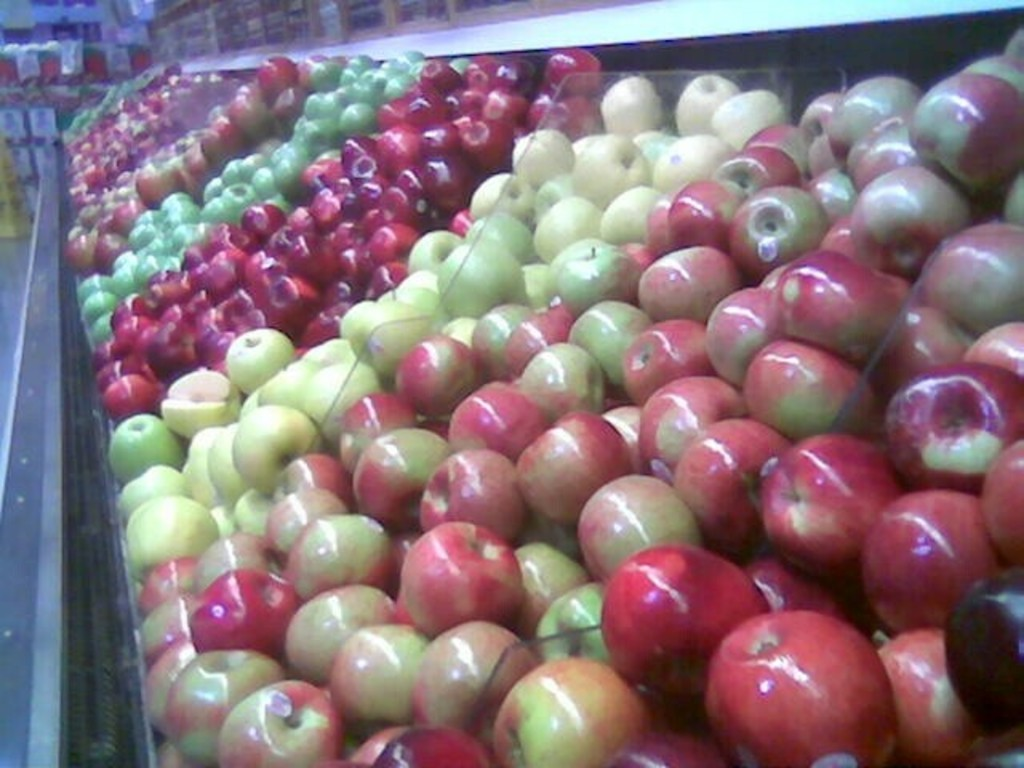Apple: (59, 27, 1022, 766), (756, 340, 854, 441)
